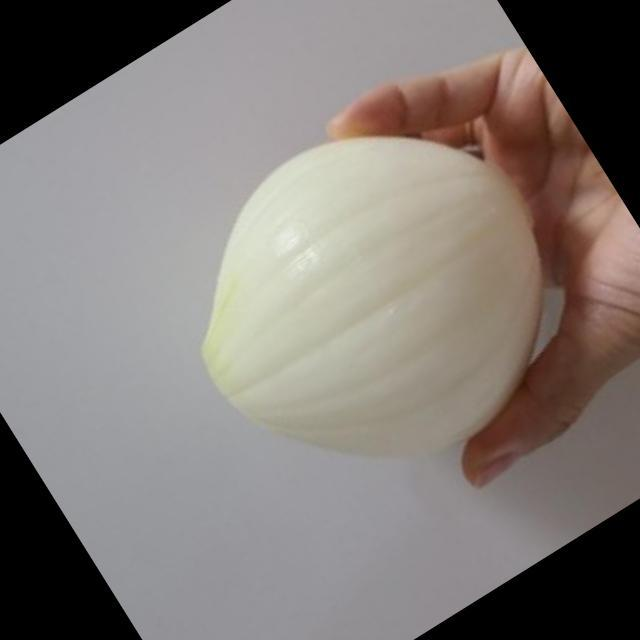Onion: (205, 132, 544, 459)
